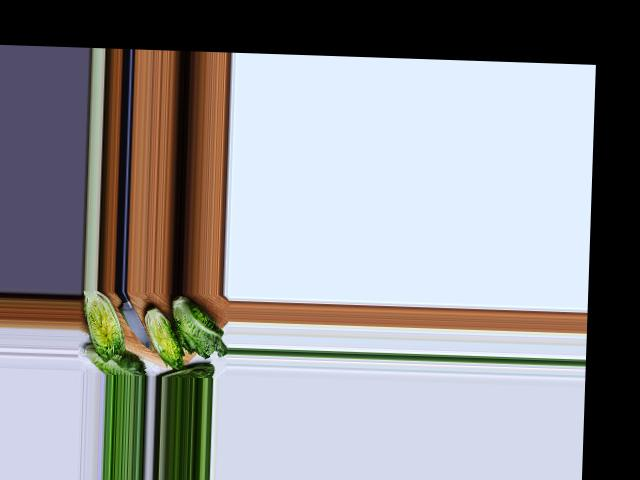lettuce: (83, 344, 145, 373)
